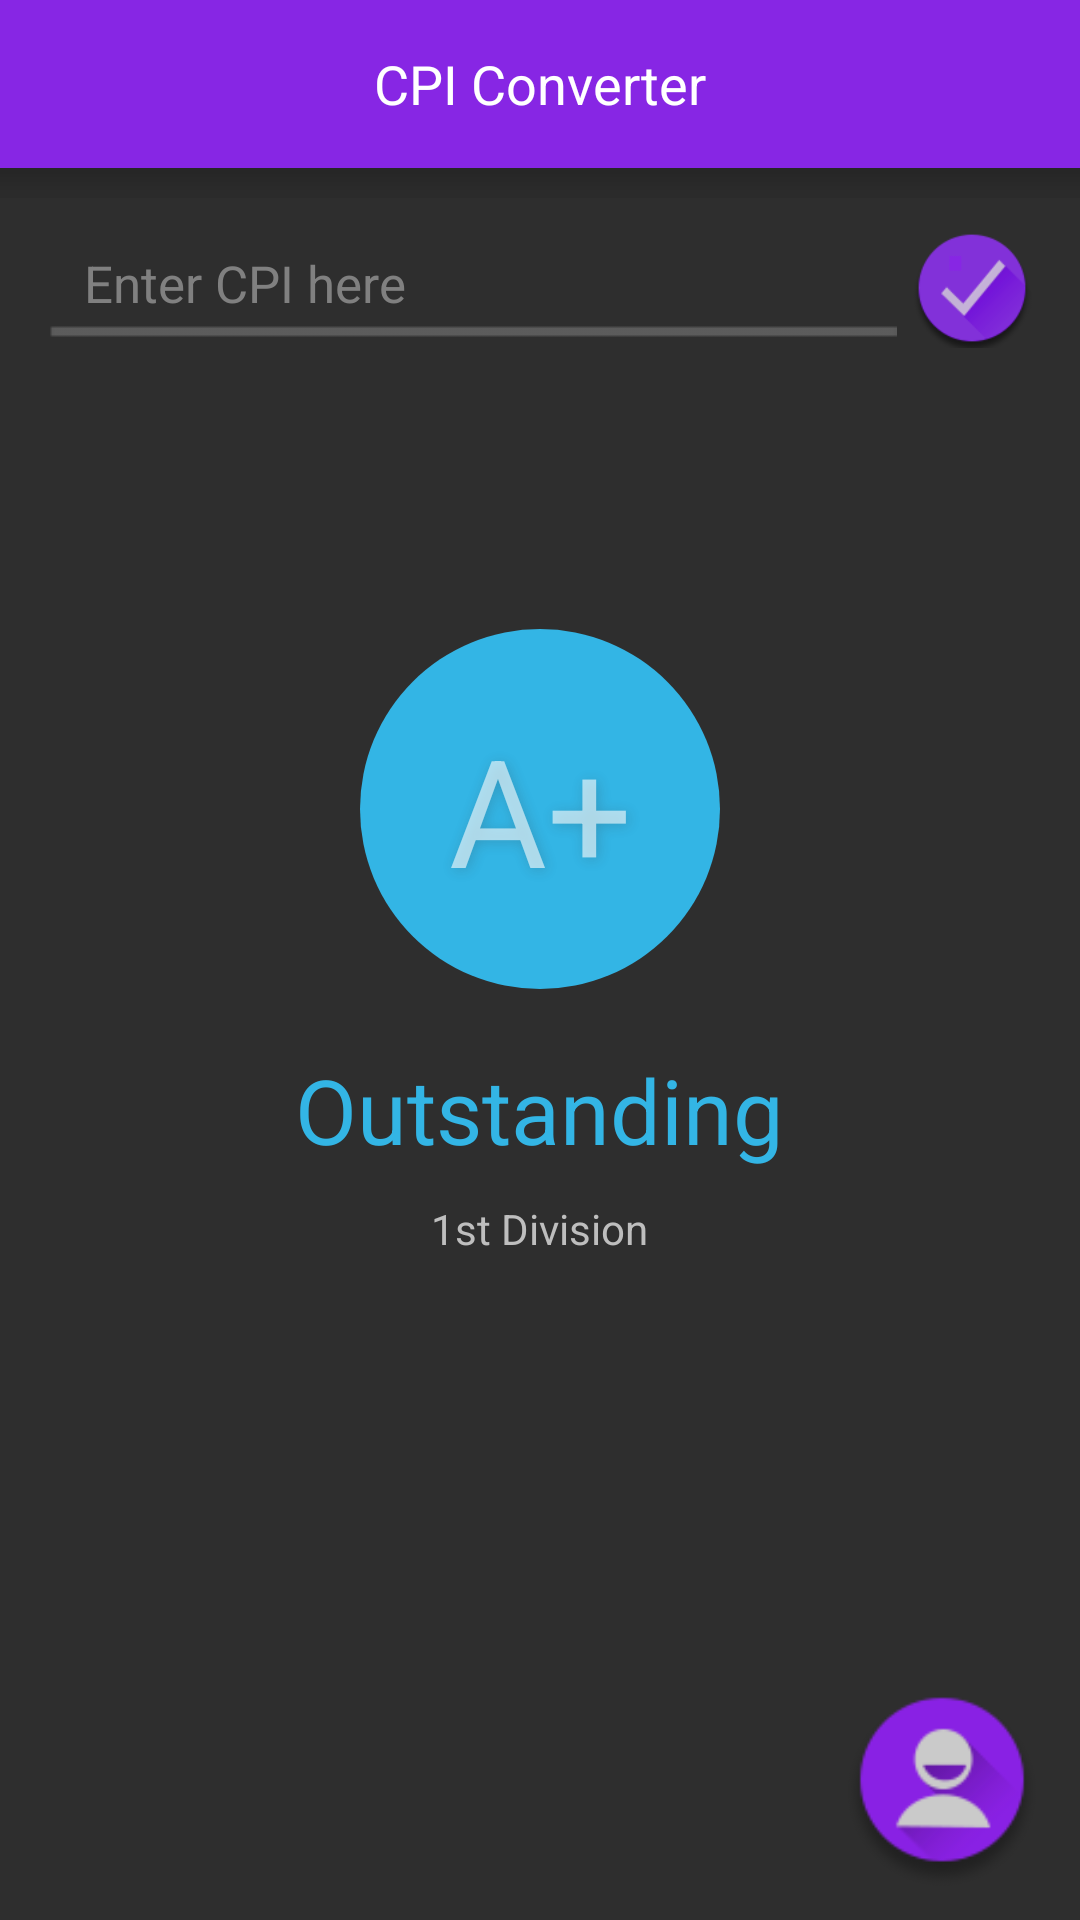

Named icons in this screenshot (1080x1920) and their centers, [x,y]:
done: [972,288]
